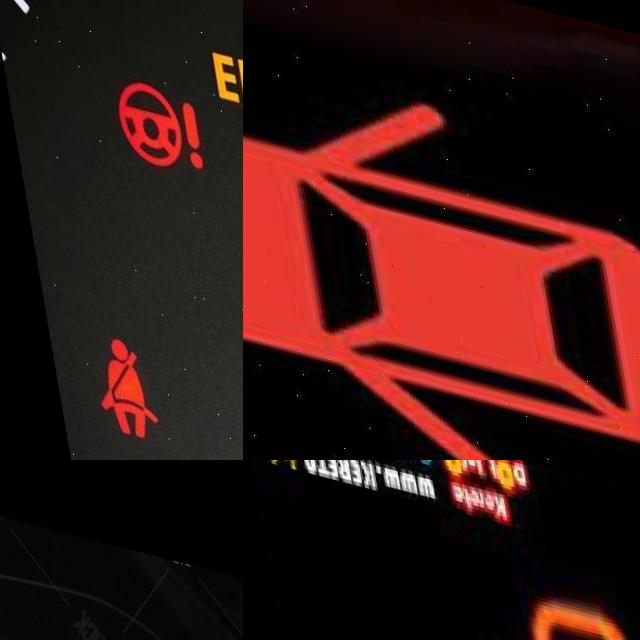Electronic Power Steering Warning: (109, 73, 200, 166)
Seat Belt: (78, 332, 142, 442)
